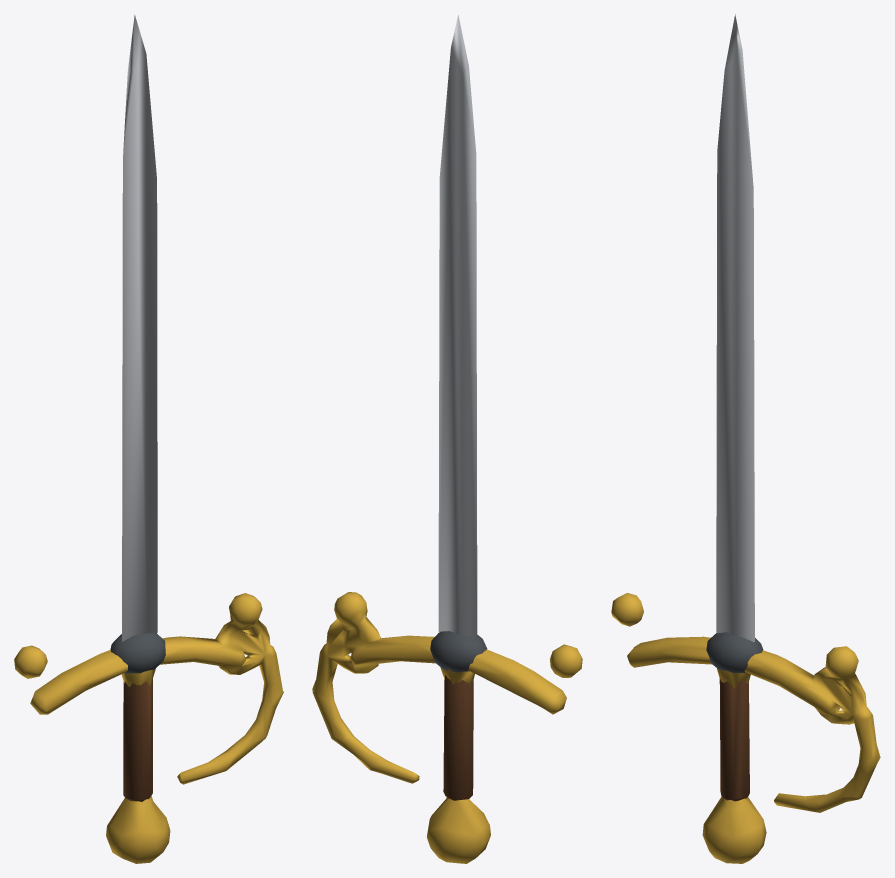
The model's file is rapier.glb.
The picture shows the model from 3 angles, left to right: view 1: azimuth 30°, elevation 25°; view 2: azimuth 150°, elevation 25°; view 3: azimuth 330°, elevation 25°; orthographic projection.
Parts seen in each view (by area): view 1: blade; view 2: blade; view 3: blade.
Part boxes in pixels (x1,y1,x2,y2): blade: (14, 14, 283, 863); blade: (312, 15, 582, 863); blade: (611, 14, 880, 863).
Size of the model in its own units: 0.3229 by 0.9805 by 0.0675.
Materials: 1 (1 with a texture image).
